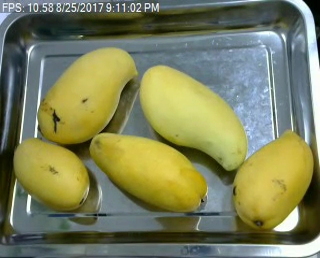Mango: (139, 64, 247, 170), (88, 130, 210, 213), (38, 44, 137, 144), (230, 130, 315, 234), (11, 137, 93, 209)
